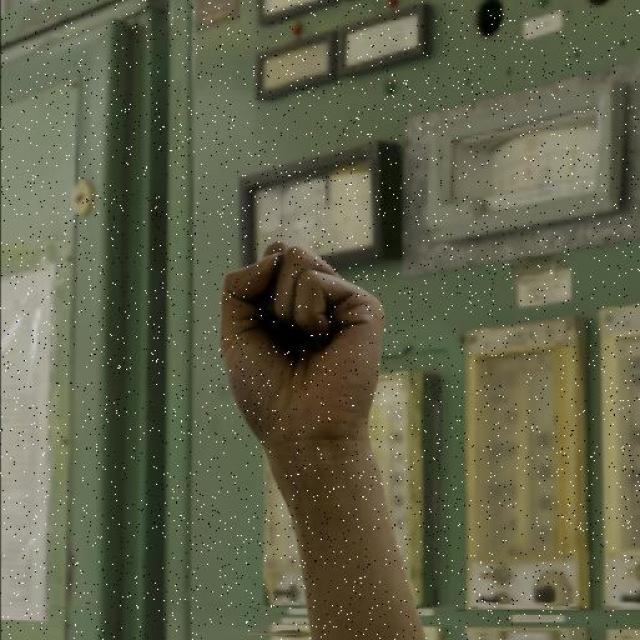S: (212, 234, 391, 463)
